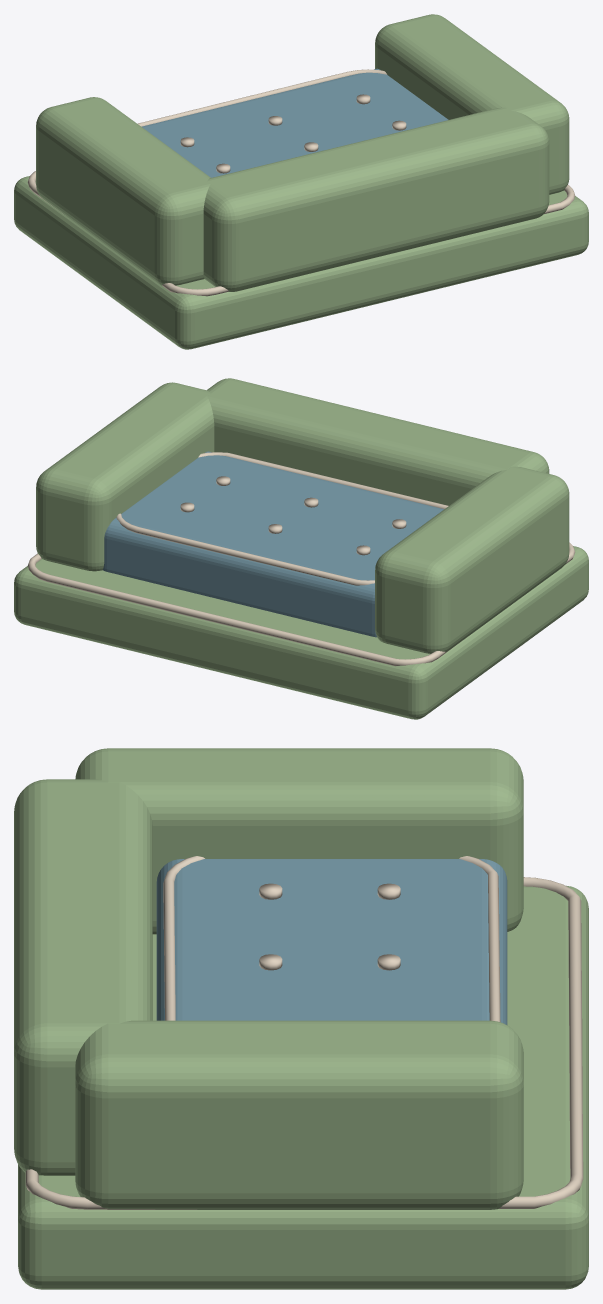
The model's file is dog_bed.glb.
3 renders of one model, top to bottom at view 1: azimuth 30°, elevation 25°; view 2: azimuth 150°, elevation 25°; view 3: azimuth 270°, elevation 25°, orthographic. The views are drawn at different scales.
Visible parts, largest first — view 1: family_dog_bed_003_back_bolster, family_dog_bed_001_support_pad, family_dog_bed_004_side_bolster_-1, family_dog_bed_002_inner_cushion, family_dog_bed_005_side_bolster_1, family_dog_bed_009_cushion_piping, family_dog_bed_007_base_piping; view 2: family_dog_bed_001_support_pad, family_dog_bed_002_inner_cushion, family_dog_bed_004_side_bolster_-1, family_dog_bed_003_back_bolster, family_dog_bed_005_side_bolster_1, family_dog_bed_007_base_piping, family_dog_bed_009_cushion_piping; view 3: family_dog_bed_005_side_bolster_1, family_dog_bed_001_support_pad, family_dog_bed_002_inner_cushion, family_dog_bed_004_side_bolster_-1, family_dog_bed_003_back_bolster, family_dog_bed_007_base_piping, family_dog_bed_009_cushion_piping.
Boxes of the visible parts, x1,y1,x2,y2 form: family_dog_bed_003_back_bolster: [203, 107, 549, 291]; family_dog_bed_001_support_pad: [14, 176, 588, 349]; family_dog_bed_004_side_bolster_-1: [36, 97, 210, 285]; family_dog_bed_002_inner_cushion: [141, 68, 448, 177]; family_dog_bed_005_side_bolster_1: [375, 14, 569, 194]; family_dog_bed_009_cushion_piping: [137, 69, 387, 126]; family_dog_bed_007_base_piping: [27, 171, 575, 296]; family_dog_bed_001_support_pad: [14, 546, 588, 719]; family_dog_bed_002_inner_cushion: [103, 451, 444, 637]; family_dog_bed_004_side_bolster_-1: [375, 466, 569, 653]; family_dog_bed_003_back_bolster: [207, 378, 549, 505]; family_dog_bed_005_side_bolster_1: [36, 382, 214, 571]; family_dog_bed_007_base_piping: [27, 542, 575, 666]; family_dog_bed_009_cushion_piping: [116, 452, 448, 585]; family_dog_bed_005_side_bolster_1: [75, 1020, 523, 1209]; family_dog_bed_001_support_pad: [18, 885, 588, 1289]; family_dog_bed_002_inner_cushion: [156, 859, 507, 1024]; family_dog_bed_004_side_bolster_-1: [75, 748, 523, 934]; family_dog_bed_003_back_bolster: [14, 779, 152, 1175]; family_dog_bed_007_base_piping: [25, 877, 583, 1209]; family_dog_bed_009_cushion_piping: [163, 856, 500, 1022].
Bounding box in the file's own units: 0.96 × 0.31 × 0.705.
